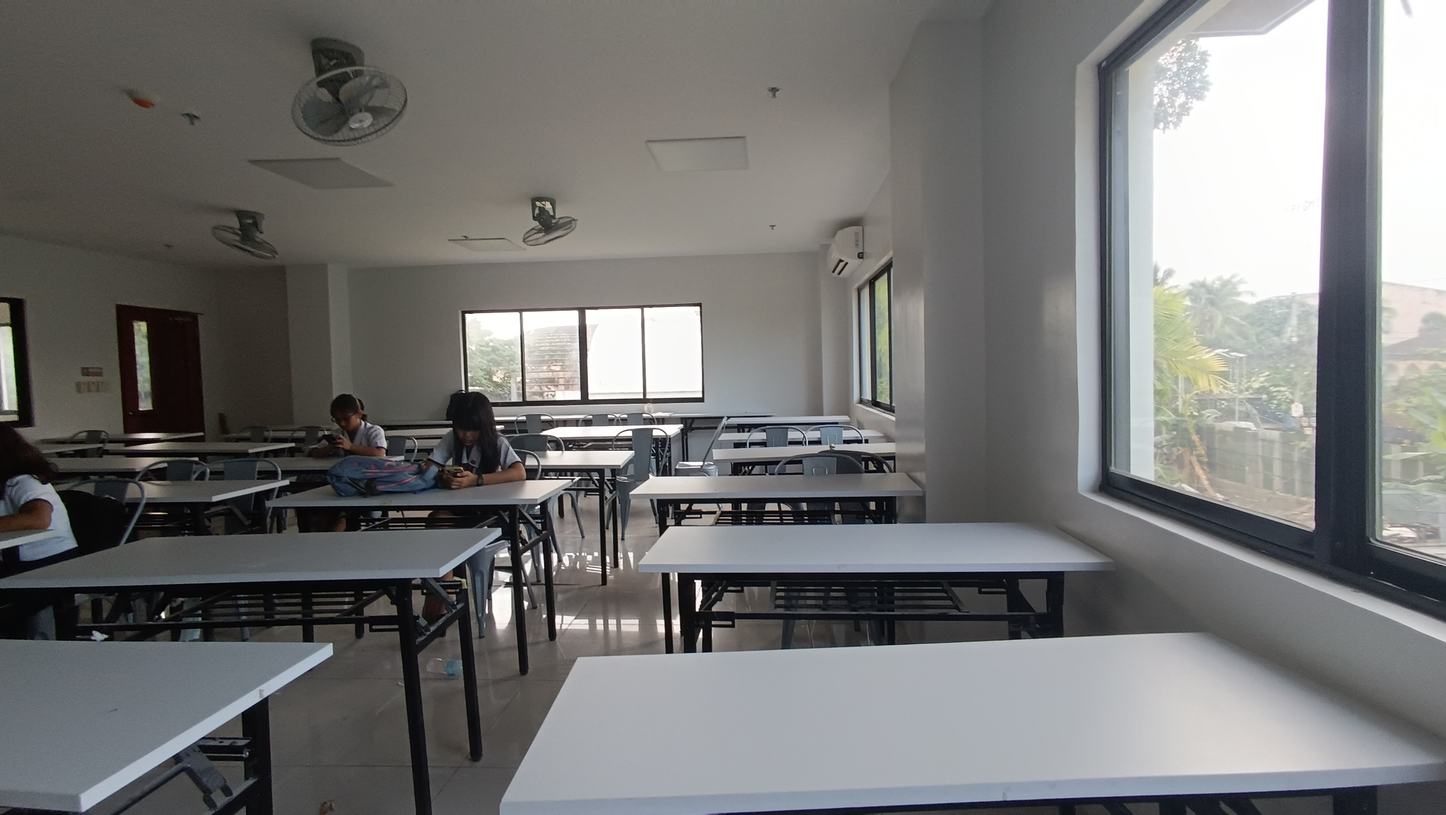with-student: (265, 388, 574, 518), (177, 390, 409, 476)
